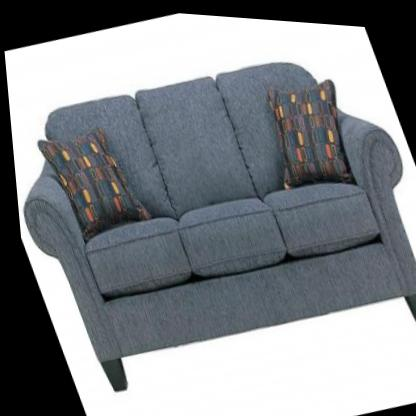Sofa: (1, 9, 416, 416)
